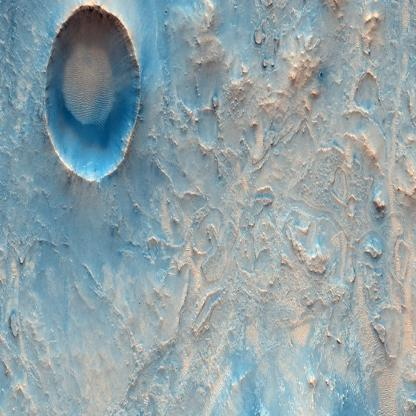craters: (31, 0, 148, 202), (366, 291, 411, 380), (347, 61, 383, 122), (182, 213, 220, 266), (326, 164, 359, 224), (191, 101, 222, 163), (240, 114, 272, 168), (371, 182, 395, 229), (253, 23, 268, 49), (272, 30, 284, 53), (260, 54, 270, 79), (315, 66, 327, 85)
